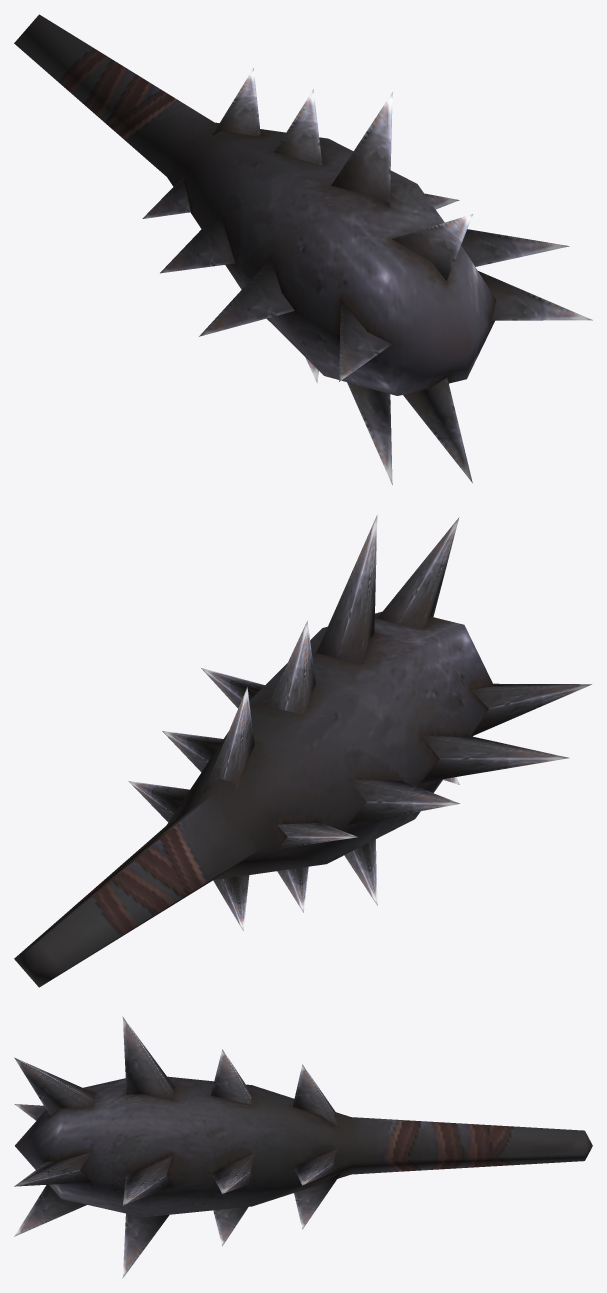
Rendered from shourenshibingxiong_weapon.FBX.
3 renders of one model, top to bottom at view 1: azimuth 30°, elevation 25°; view 2: azimuth 150°, elevation 25°; view 3: azimuth 270°, elevation 25°, orthographic. The views are drawn at different scales.
Visible parts, largest first — view 1: Shouzushibin_wuqi; view 2: Shouzushibin_wuqi; view 3: Shouzushibin_wuqi.
Boxes of the visible parts, x1,y1,x2,y2 form: Shouzushibin_wuqi: (14,14,592,484); Shouzushibin_wuqi: (14,515,591,987); Shouzushibin_wuqi: (14,1016,592,1278).
Bounding box in the file's own units: 1.26 × 2.55 × 1.27.
